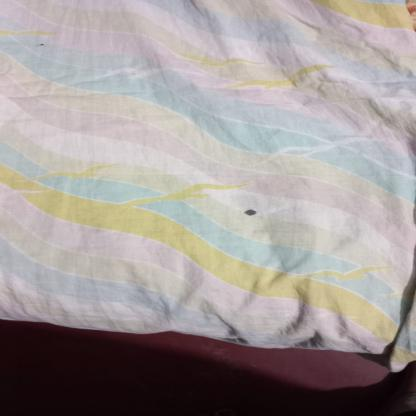spot: (241, 205, 270, 220)
